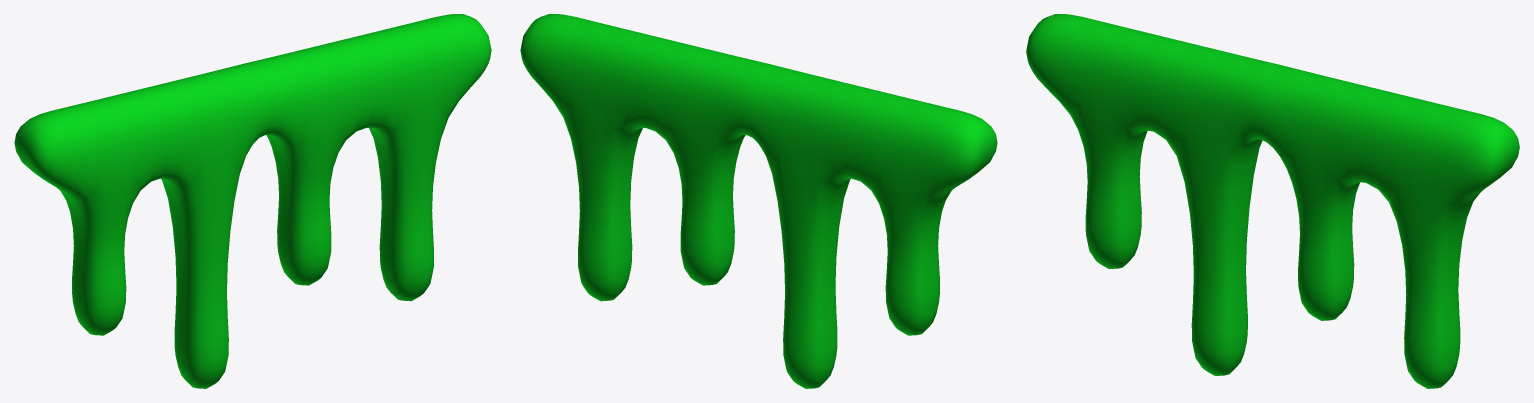
Rendered from Wall_Slime_02.fbx.
3 views of the same model, side by side, from view 1: azimuth 30°, elevation 25°; view 2: azimuth 150°, elevation 25°; view 3: azimuth 330°, elevation 25° (orthographic). The views are drawn at different scales.
Parts seen in each view (by area): view 1: Cube; view 2: Cube; view 3: Cube.
Part boxes in pixels (x1,y1,x2,y2): Cube: (14,14,491,388); Cube: (520,14,997,388); Cube: (1026,14,1519,388).
Size of the model in its own units: 360 by 233 by 48.5.
